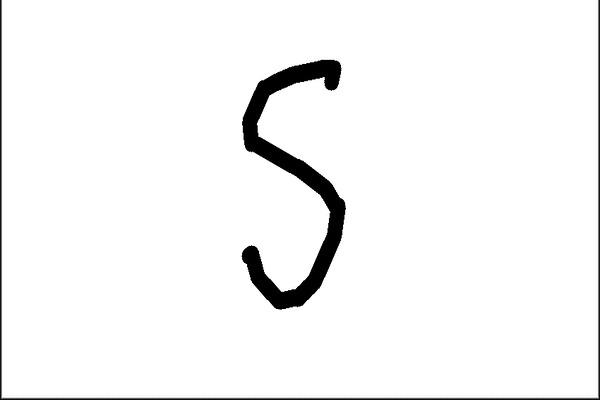S: (233, 55, 353, 311)
